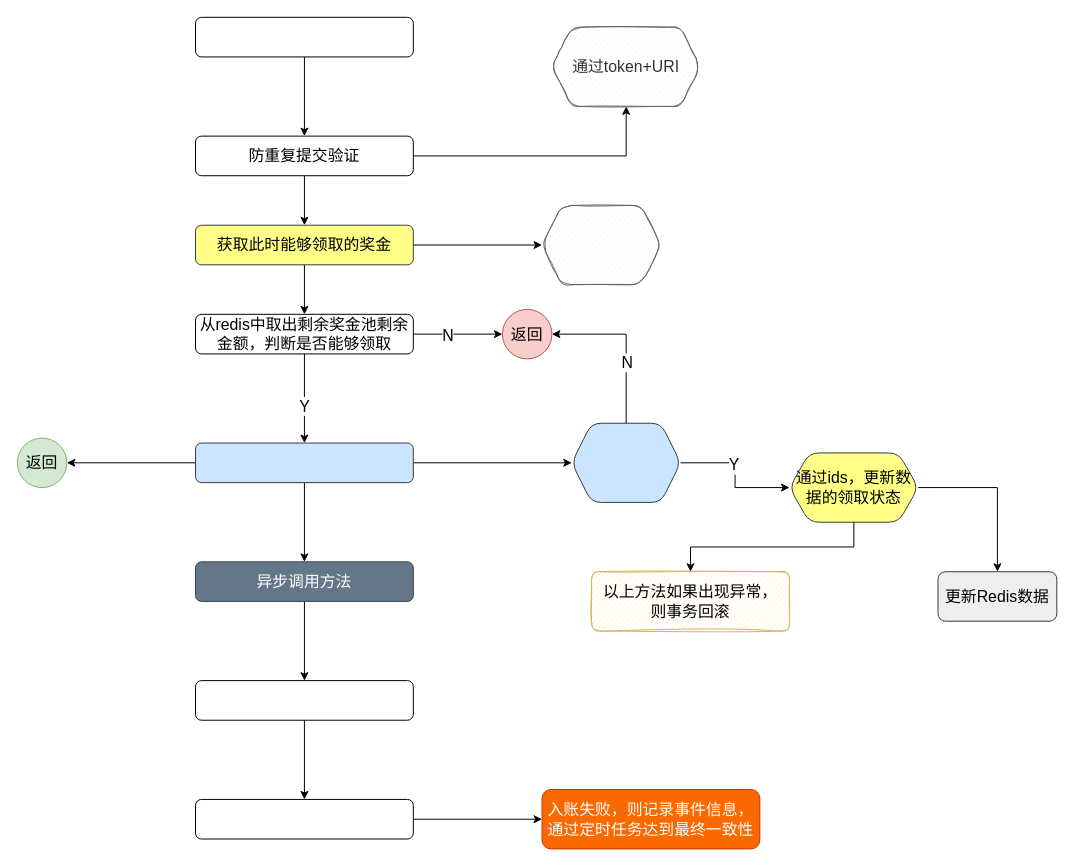
The diagram is 1074 pixels wide and 866 high, and some of its shapes have lost their labels. The centre of each missing label's shape, as x and y in pixels:
"HTTP请求" belongs at pixel 304 36.
"Redisson分布式锁锁住代码块" belongs at pixel 304 462.
"再次判断是否 能够领取" belongs at pixel 626 462.
"写入领取记录" belongs at pixel 304 700.
"记录下ids" belongs at pixel 601 244.
"资金账户入账" belongs at pixel 304 818.
